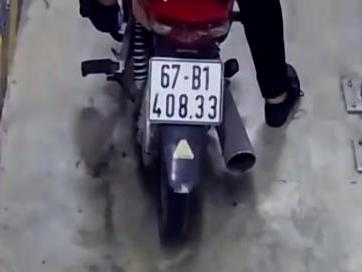num_plate: (147, 55, 223, 125)
